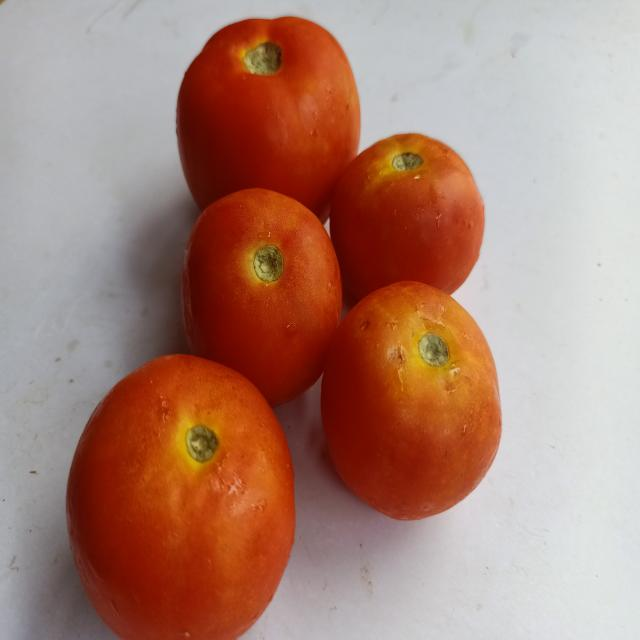Tomato: (57, 344, 299, 637), (316, 277, 500, 528), (173, 15, 361, 226), (177, 187, 346, 411), (331, 135, 485, 296)
